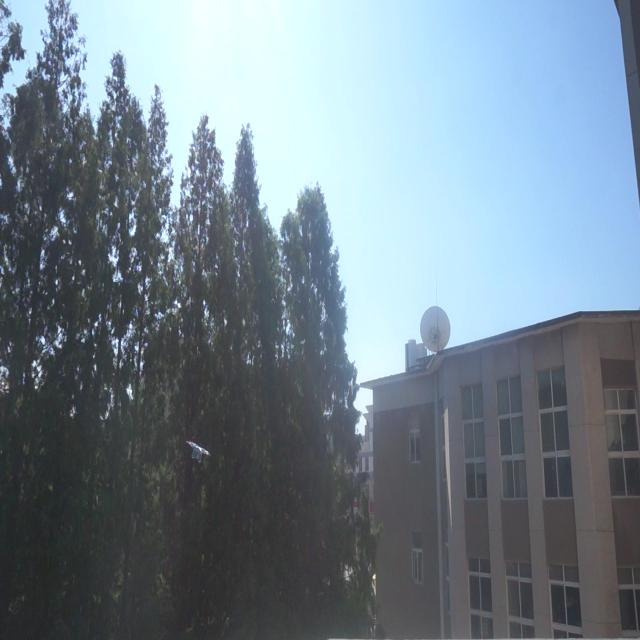drone: (185, 436, 211, 464)
